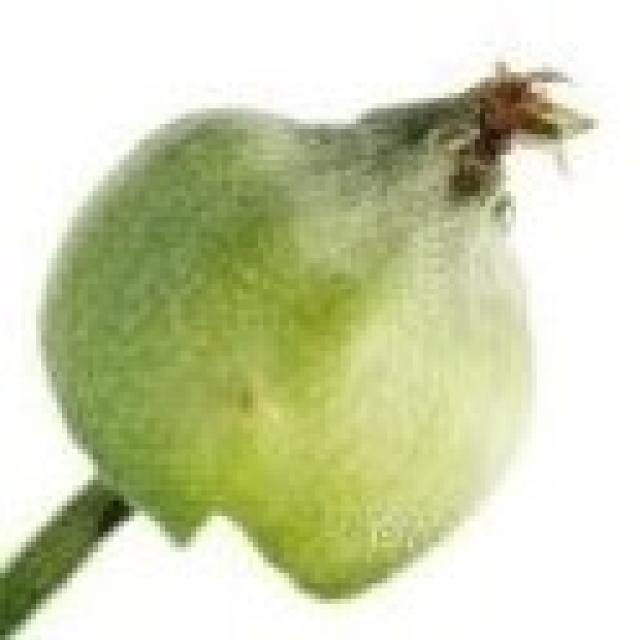20-_ripeness: (33, 58, 593, 601)
